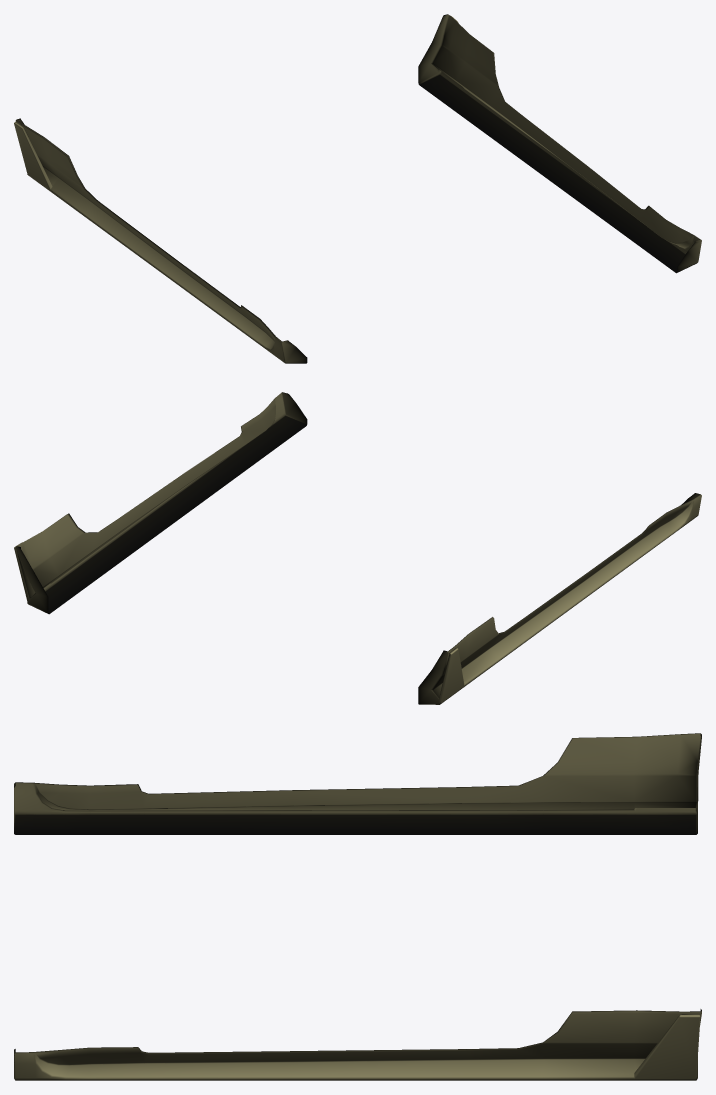
Rendered from Mustang16_Skirt_03_Duco.fbx.
The picture shows the model from 3 angles, top to bottom: view 1: azimuth 30°, elevation 25°; view 2: azimuth 150°, elevation 25°; view 3: azimuth 270°, elevation 25°; orthographic projection. The views are drawn at different scales.
Parts seen in each view (by area): view 1: Mustang16_Skirt_03_Duco; view 2: Mustang16_Skirt_03_Duco; view 3: Mustang16_Skirt_03_Duco.
Boxes of the visible parts, box(x1,y1,x2,y2) form: Mustang16_Skirt_03_Duco: box(14, 14, 701, 363); Mustang16_Skirt_03_Duco: box(14, 392, 701, 704); Mustang16_Skirt_03_Duco: box(14, 733, 701, 1080).
Bounding box in the file's own units: 187 × 25.25 × 192.
